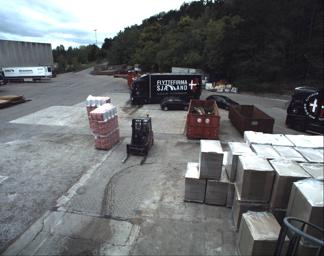rockwool_batts: (89, 105, 119, 148), (86, 95, 109, 119)
